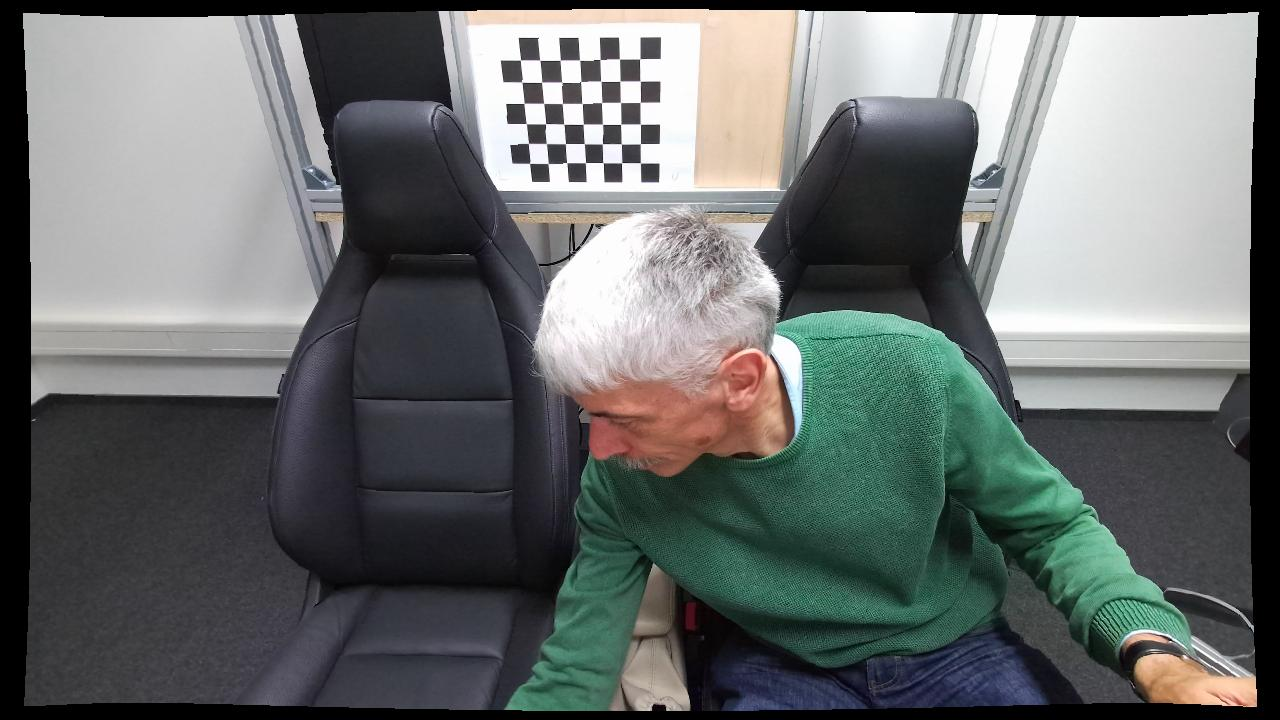Distracted: (496, 207, 1248, 716)
